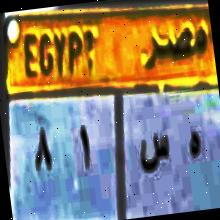1: (70, 115, 95, 174)
8: (26, 121, 56, 178)
haa: (180, 122, 204, 168)
seen: (136, 128, 175, 183)
